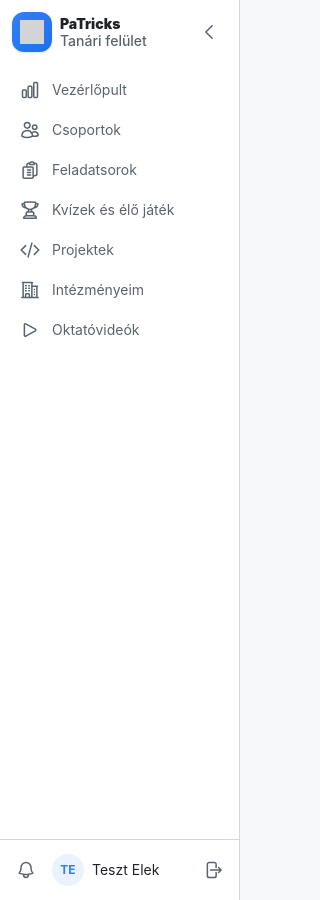
AppSidebarComponent › összecsukás: 15rem ↔ 4rem, aria-expanded/aria-label, a címkék sr-only + title, localStorage-ba ment
Click the button with test id "sidebar-toggle" at [209, 32], box 191,14 -> 227,50
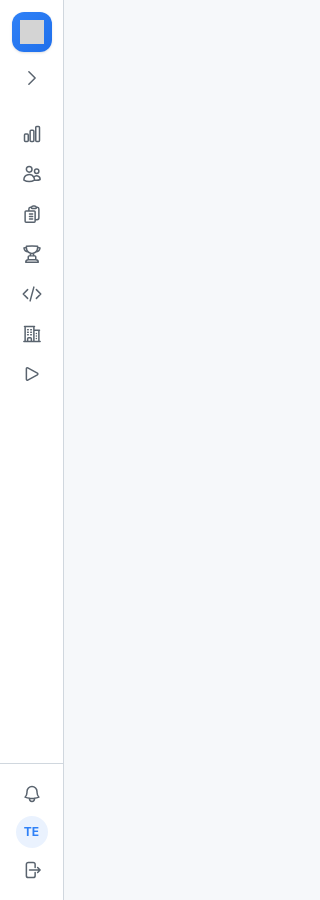
Check: the button with test id "sidebar-toggle" is collapsed, box 14,60 -> 50,96
